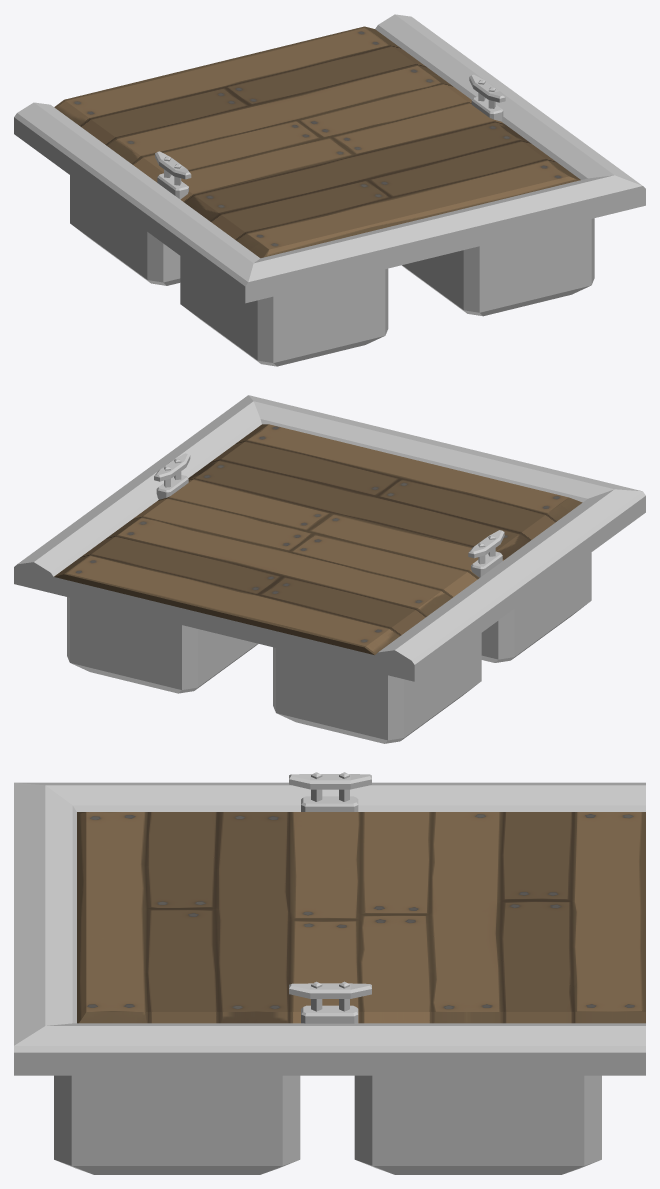
File: SM_Bld_Dock_Platform_End_01.fbx
The picture shows the model from 3 angles, top to bottom: view 1: azimuth 30°, elevation 25°; view 2: azimuth 150°, elevation 25°; view 3: azimuth 270°, elevation 25°; orthographic projection. The views are drawn at different scales.
Visible parts, largest first — view 1: SM_Bld_Dock_Platform_End_01; view 2: SM_Bld_Dock_Platform_End_01; view 3: SM_Bld_Dock_Platform_End_01.
Boxes of the visible parts, left/top/right/bottom form: SM_Bld_Dock_Platform_End_01: left=14, top=14, right=645, bottom=366; SM_Bld_Dock_Platform_End_01: left=14, top=395, right=645, bottom=743; SM_Bld_Dock_Platform_End_01: left=14, top=772, right=645, bottom=1174.
Bounding box in the file's own units: 250 × 83.51 × 250.
